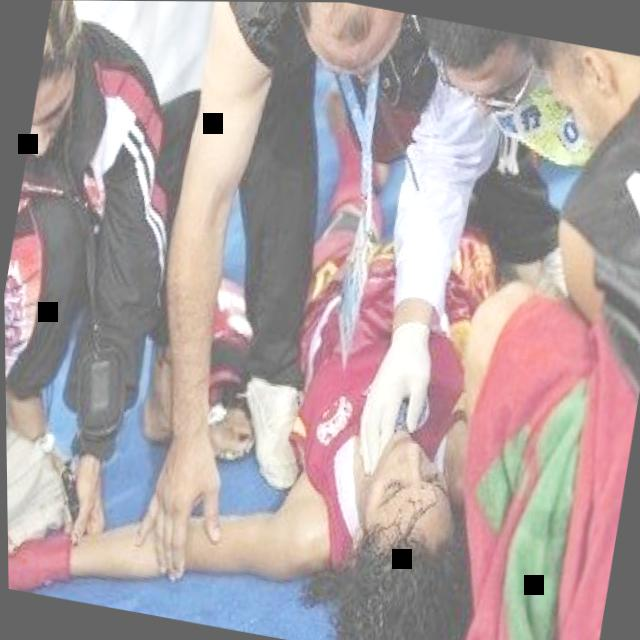Fall-Detected: (92, 13, 572, 640)
